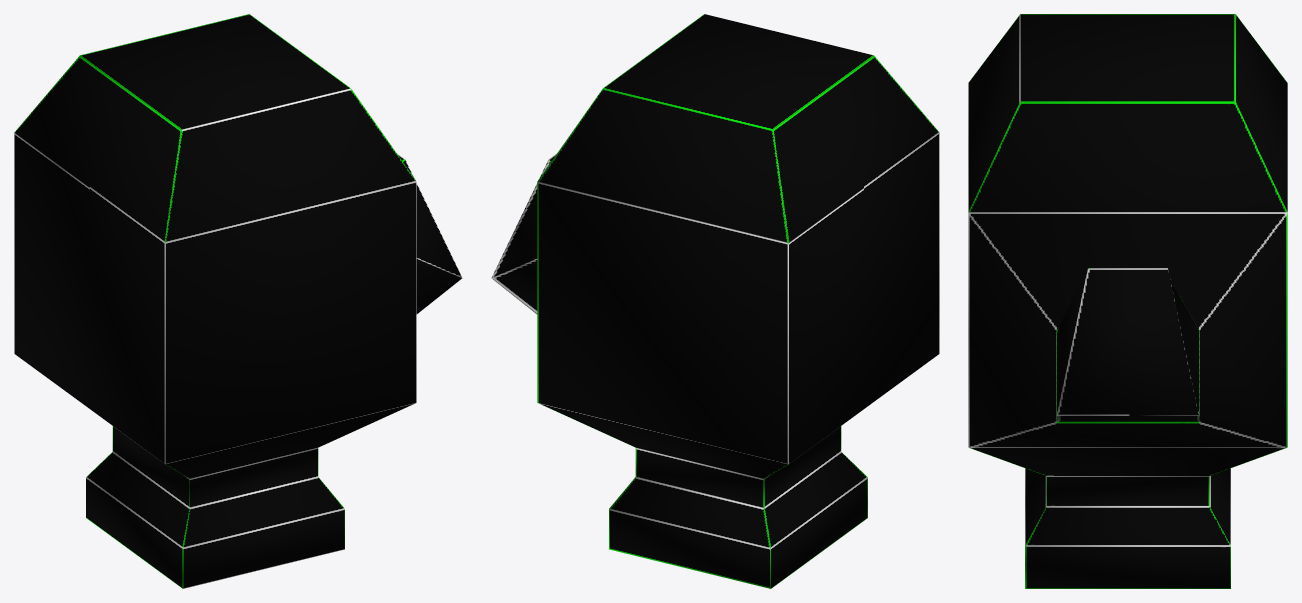
Rendered from Glove.FBX.
3 views of the same model, side by side, from view 1: azimuth 30°, elevation 25°; view 2: azimuth 150°, elevation 25°; view 3: azimuth 270°, elevation 25° (orthographic). The views are drawn at different scales.
Parts seen in each view (by area): view 1: Glove; view 2: Glove; view 3: Glove.
Boxes of the visible parts, x1,y1,x2,y2 form: Glove: (14, 14, 462, 588); Glove: (491, 14, 939, 588); Glove: (968, 14, 1287, 588).
Size of the model in its own units: 29.03 by 37.76 by 22.34.
